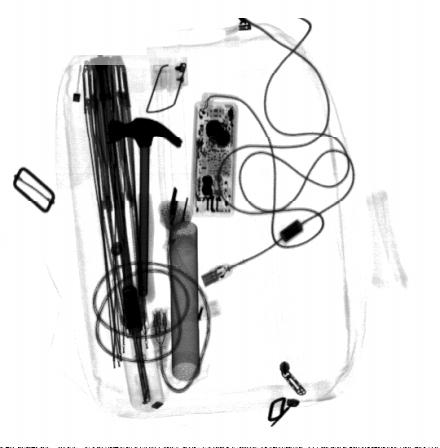Hammer: (107, 116, 182, 304)
